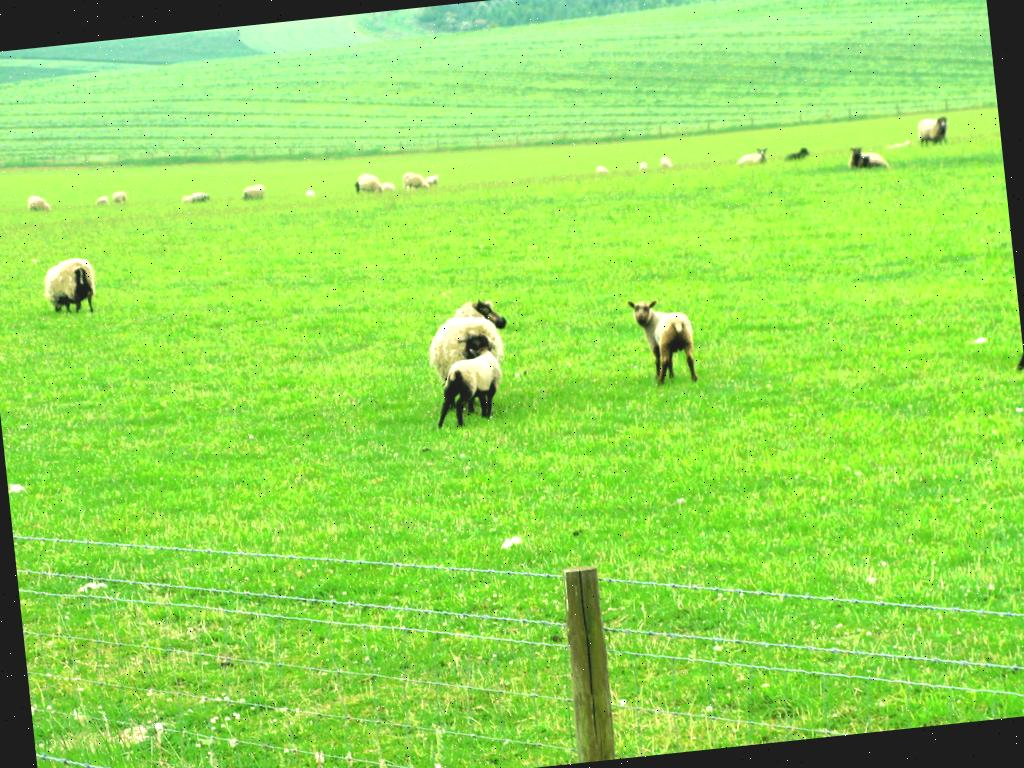Sheep: (424, 299, 516, 416), (428, 334, 506, 429), (632, 296, 700, 385), (40, 256, 98, 316), (848, 144, 890, 168), (918, 116, 948, 146), (402, 169, 432, 191), (353, 171, 381, 193), (737, 146, 770, 162), (28, 192, 52, 212), (242, 184, 265, 200), (786, 146, 808, 160), (192, 191, 210, 204), (892, 140, 914, 148), (112, 190, 126, 202), (426, 173, 440, 185), (660, 156, 671, 167), (95, 195, 107, 204), (597, 165, 609, 174), (381, 183, 395, 190), (182, 194, 192, 203), (306, 191, 318, 198), (640, 160, 647, 170)
